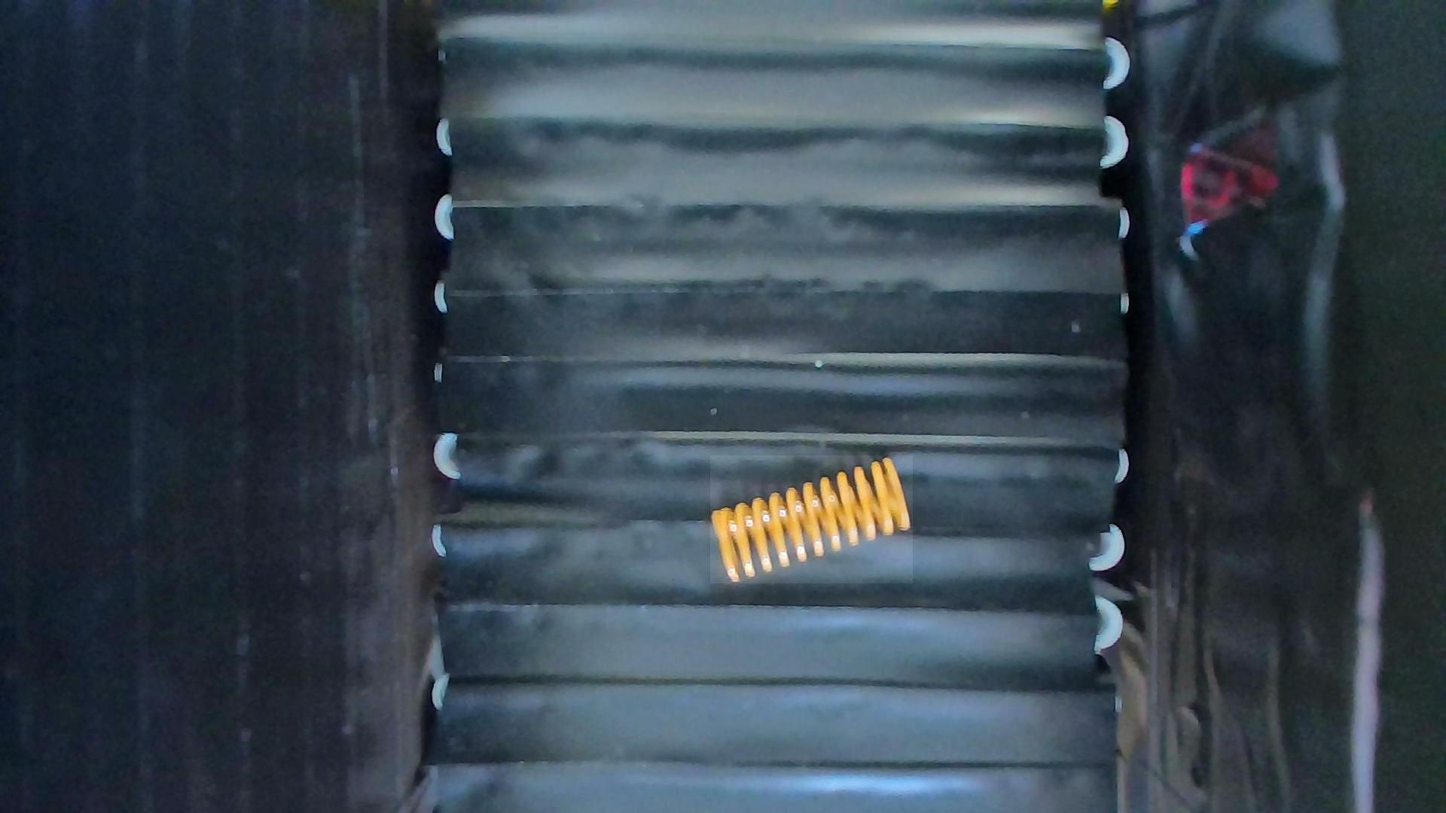spring: (710, 455, 912, 583)
